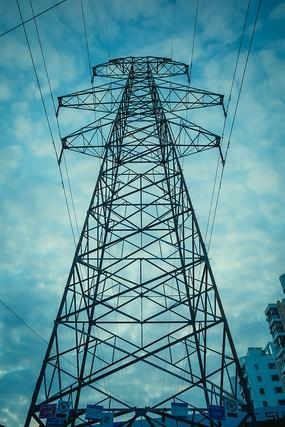power_tower: (24, 42, 266, 427)
